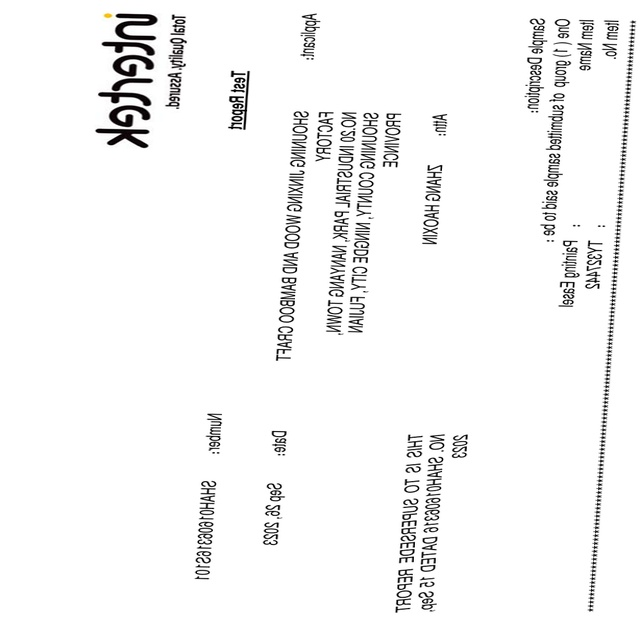intertek: (92, 9, 159, 156)
